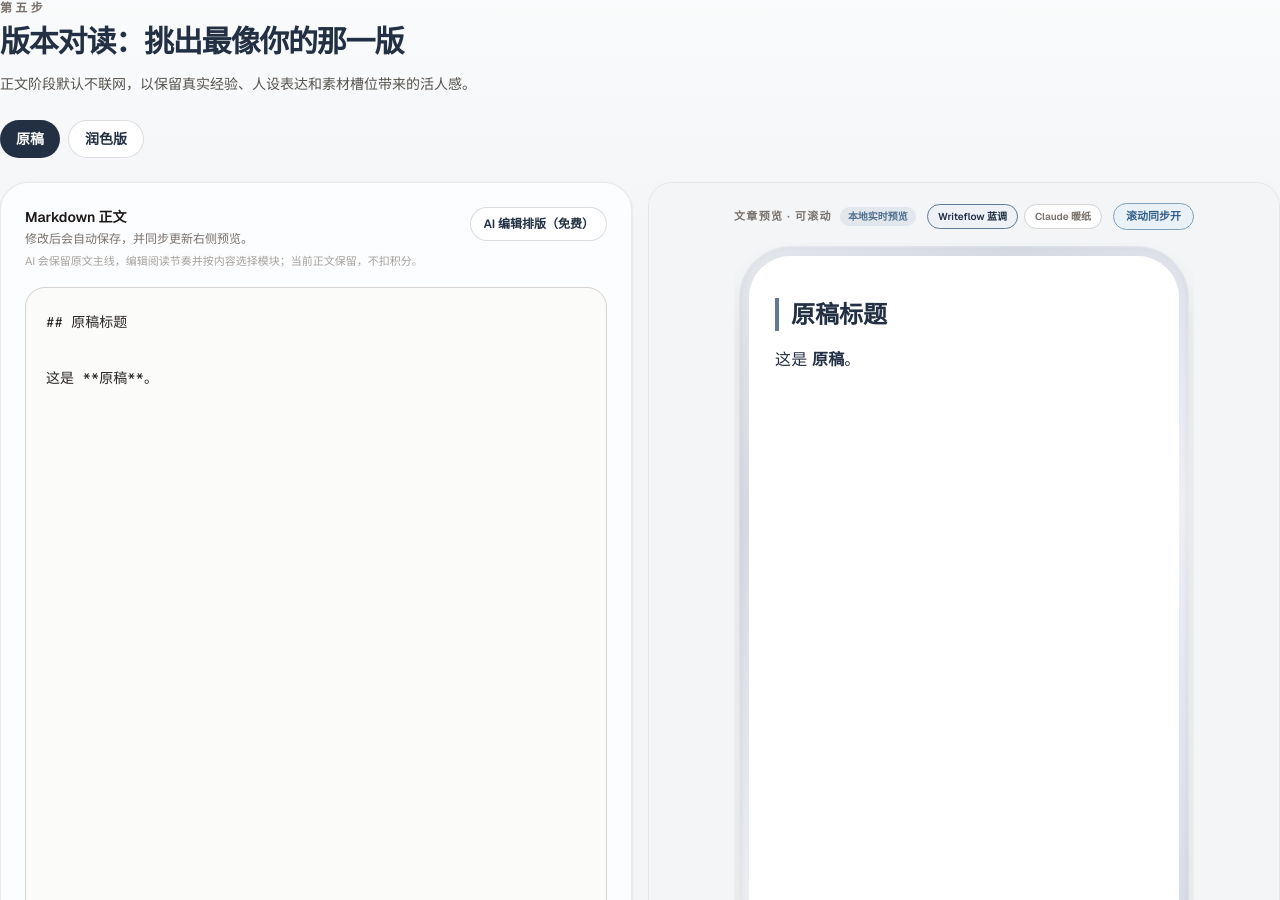
Test: DraftStage › keeps the editor and preview aligned when switching versions
Click the button "润色版": [106, 139] box [68,120,144,158]
(page scrolled)
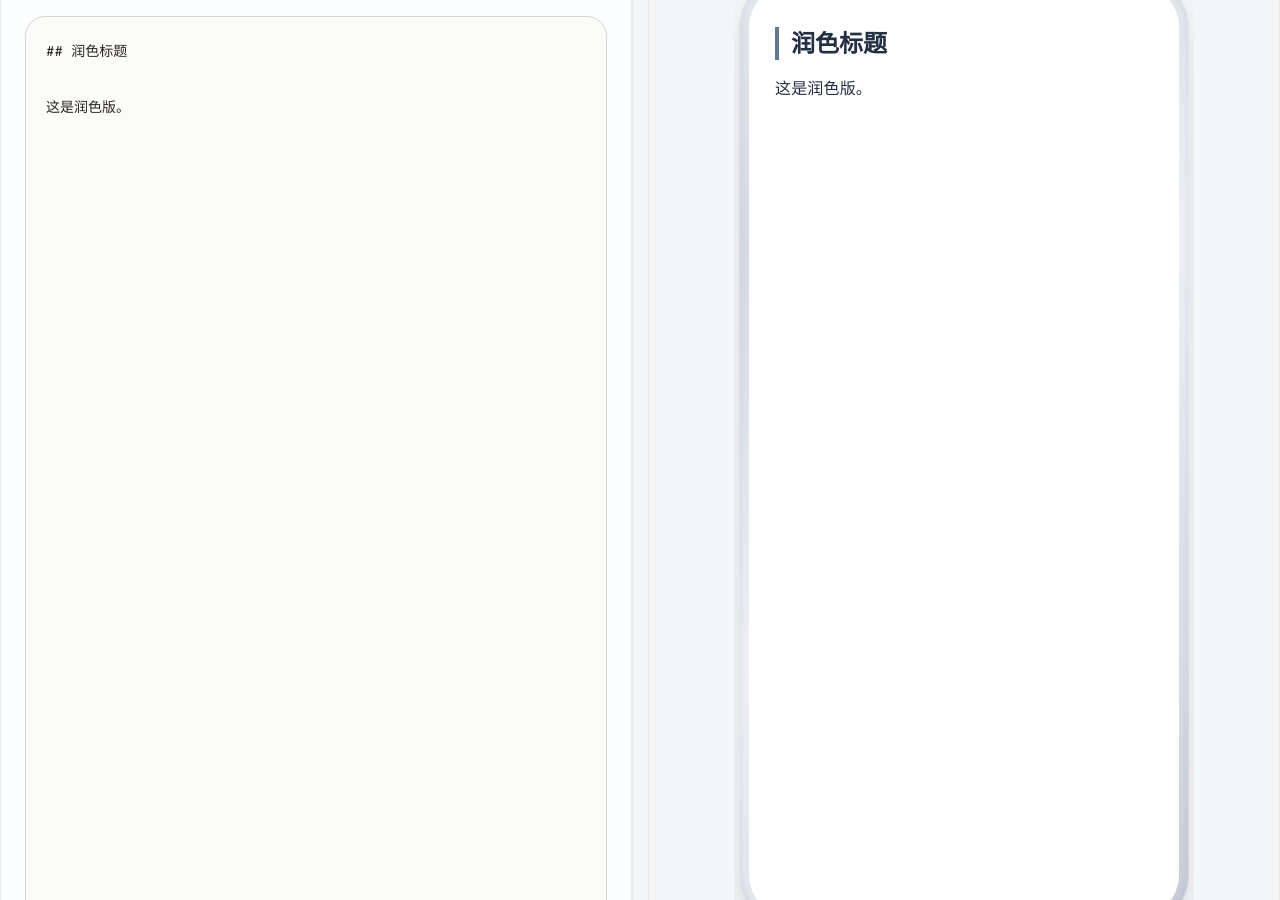
Check: the element named "公众号排版预览" shows "润色标题", box [791,29,887,58]
